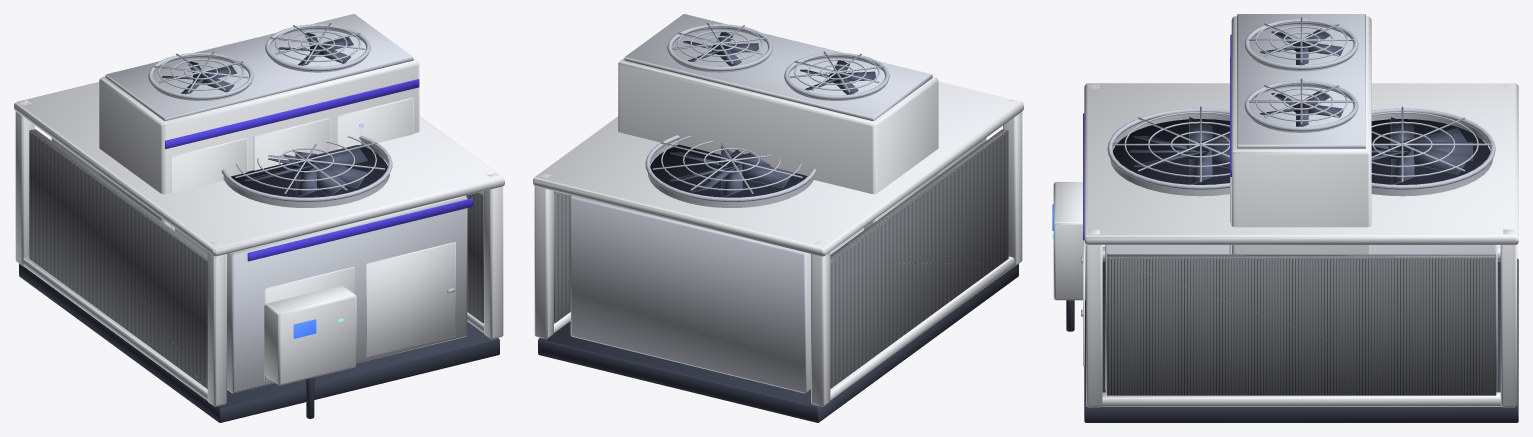
The model's file is cooling.glb.
3 renders of one model, left to right at view 1: azimuth 30°, elevation 25°; view 2: azimuth 150°, elevation 25°; view 3: azimuth 270°, elevation 25°, orthographic. The views are drawn at different scales.
Visible parts, largest first — view 1: chiller_a_body, crah_body, chiller_b_body, chiller_a_fan_1_rotor, chiller_b_fan_1_rotor, crah_fan_1_rotor, crah_fan_2_rotor; view 2: chiller_a_body, crah_body, chiller_a_fan_2_rotor, chiller_b_fan_2_rotor, crah_fan_1_rotor, crah_fan_2_rotor; view 3: chiller_a_body, crah_body, chiller_a_fan_2_rotor, chiller_b_fan_2_rotor, chiller_a_fan_1_rotor, chiller_b_fan_1_rotor, crah_fan_1_rotor, crah_fan_2_rotor.
Boxes of the visible parts, x1,y1,x2,y2 form: chiller_a_body: [14, 82, 504, 422]; crah_body: [99, 14, 419, 230]; chiller_b_body: [264, 242, 455, 382]; chiller_a_fan_1_rotor: [244, 145, 367, 196]; chiller_b_fan_1_rotor: [268, 151, 367, 197]; crah_fan_1_rotor: [162, 60, 236, 94]; crah_fan_2_rotor: [278, 31, 353, 65]; chiller_a_body: [533, 82, 1023, 422]; crah_body: [618, 14, 938, 229]; chiller_a_fan_2_rotor: [670, 150, 793, 192]; chiller_b_fan_2_rotor: [670, 146, 770, 197]; crah_fan_1_rotor: [800, 60, 876, 94]; crah_fan_2_rotor: [683, 32, 759, 66]; chiller_a_body: [1052, 83, 1518, 422]; crah_body: [1229, 14, 1371, 254]; chiller_a_fan_2_rotor: [1371, 117, 1472, 184]; chiller_b_fan_2_rotor: [1371, 128, 1468, 174]; chiller_a_fan_1_rotor: [1130, 117, 1229, 184]; chiller_b_fan_1_rotor: [1134, 134, 1229, 168]; crah_fan_1_rotor: [1260, 28, 1343, 65]; crah_fan_2_rotor: [1260, 90, 1343, 126].
Bounding box in the file's own units: 2.6 × 2.38 × 3.33.
16 materials, 2 textured.
